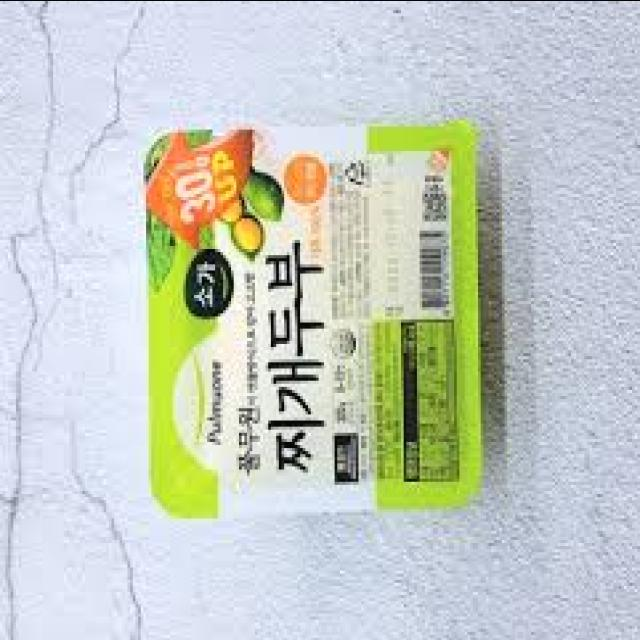tof: (132, 108, 500, 528)
